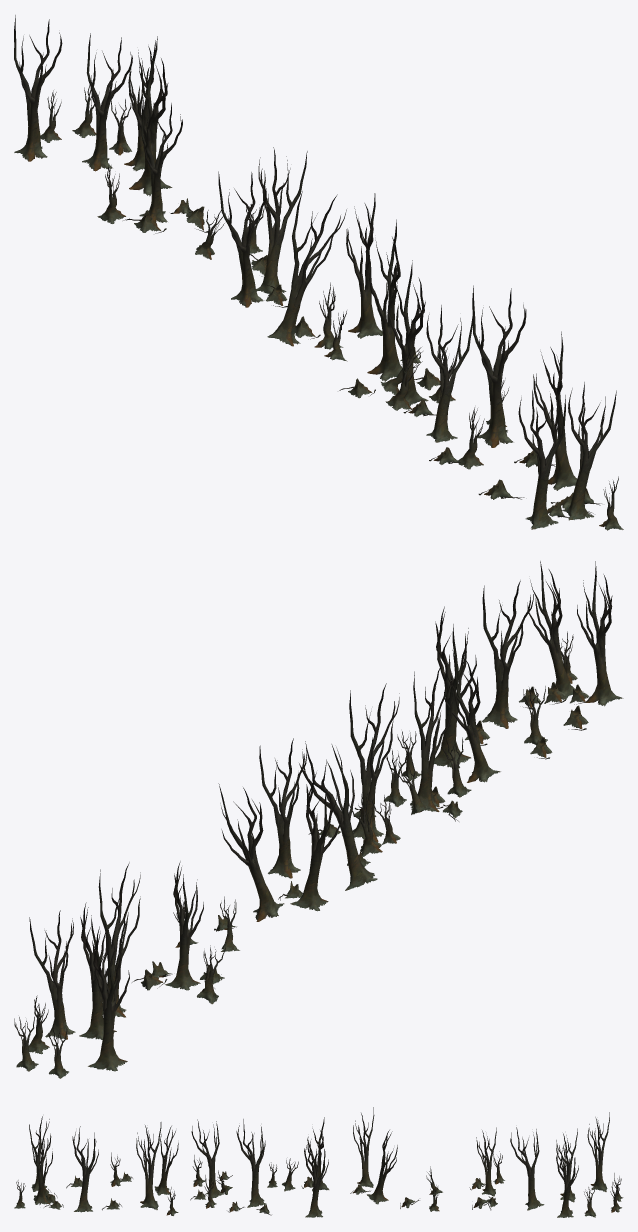
Rendered from forest1Daer_LOD.fbx.
3 renders of one model, top to bottom at view 1: azimuth 30°, elevation 25°; view 2: azimuth 150°, elevation 25°; view 3: azimuth 270°, elevation 25°, orthographic. The views are drawn at different scales.
Visible parts, largest first — view 1: TreeDaer_LOD0; view 2: TreeDaer_LOD0; view 3: TreeDaer_LOD0.
Boxes of the visible parts, x1,y1,x2,y2 form: TreeDaer_LOD0: [14, 15, 623, 530]; TreeDaer_LOD0: [14, 561, 623, 1078]; TreeDaer_LOD0: [14, 1107, 623, 1217].
Size of what is drawn, in the model's own units: 1349 by 1605 by 9953.
